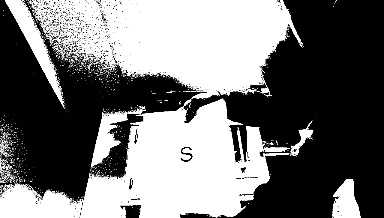S: (176, 143, 196, 163)
